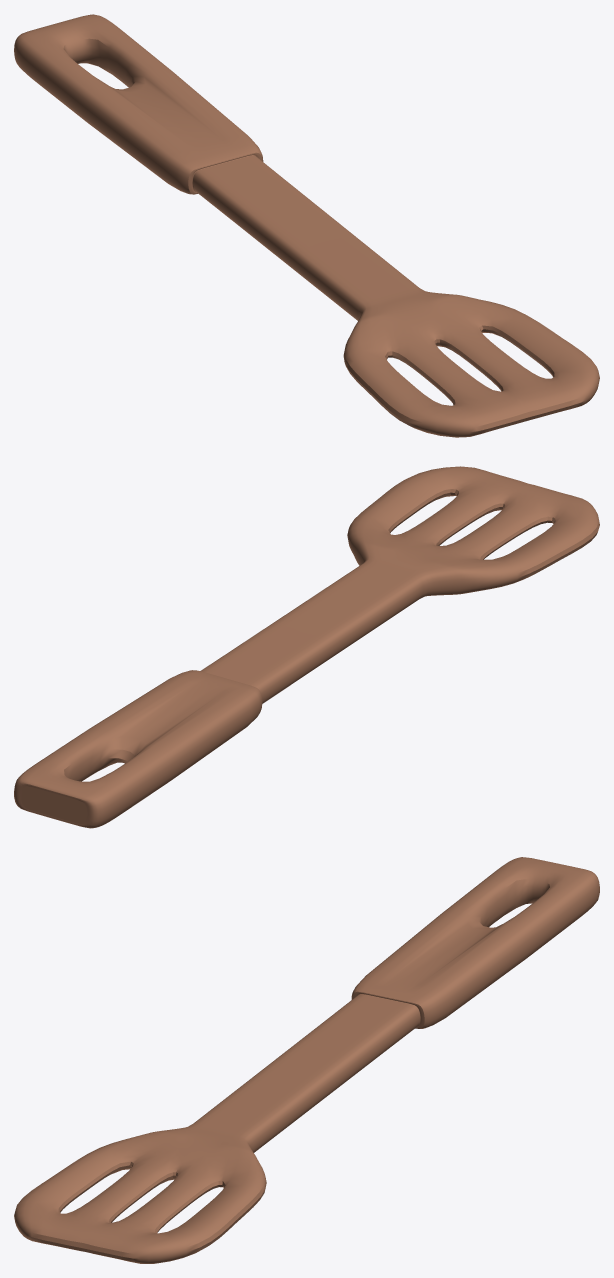
File: espatula2.fbx
The picture shows the model from 3 angles, top to bottom: view 1: azimuth 30°, elevation 25°; view 2: azimuth 150°, elevation 25°; view 3: azimuth 330°, elevation 25°; orthographic projection.
Parts seen in each view (by area): view 1: espatula2; view 2: espatula2; view 3: espatula2.
Part boxes in pixels (x1,y1,x2,y2): espatula2: (14,14,599,437); espatula2: (14,466,599,828); espatula2: (14,857,599,1263).
Size of the model in its own units: 11.72 by 3.22 by 50.1.
